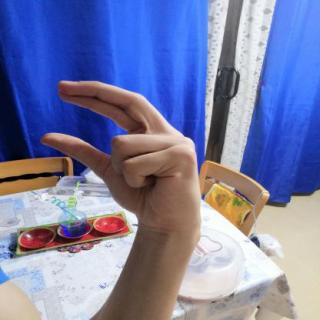DHELL: (29, 72, 210, 232)
